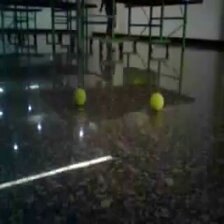tennis: (149, 92, 164, 112), (73, 88, 87, 107)
